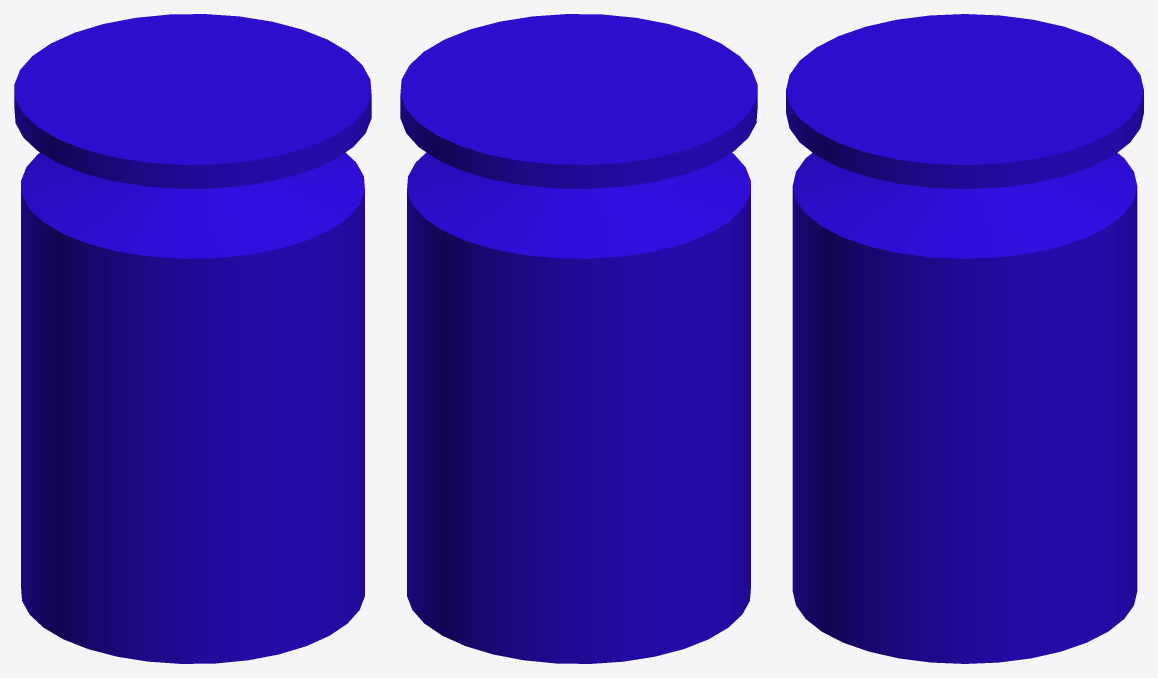
Rendered from piece3.gltf.
The picture shows the model from 3 angles, left to right: view 1: azimuth 30°, elevation 25°; view 2: azimuth 150°, elevation 25°; view 3: azimuth 270°, elevation 25°; orthographic projection.
Visible parts, largest first — view 1: Cylinder.002; view 2: Cylinder.002; view 3: Cylinder.002.
Boxes of the visible parts, x1,y1,x2,y2 form: Cylinder.002: (14, 14, 371, 663); Cylinder.002: (400, 14, 757, 663); Cylinder.002: (786, 14, 1143, 663).
Bounding box in the file's own units: 0.8304 × 1.28 × 0.8304.
